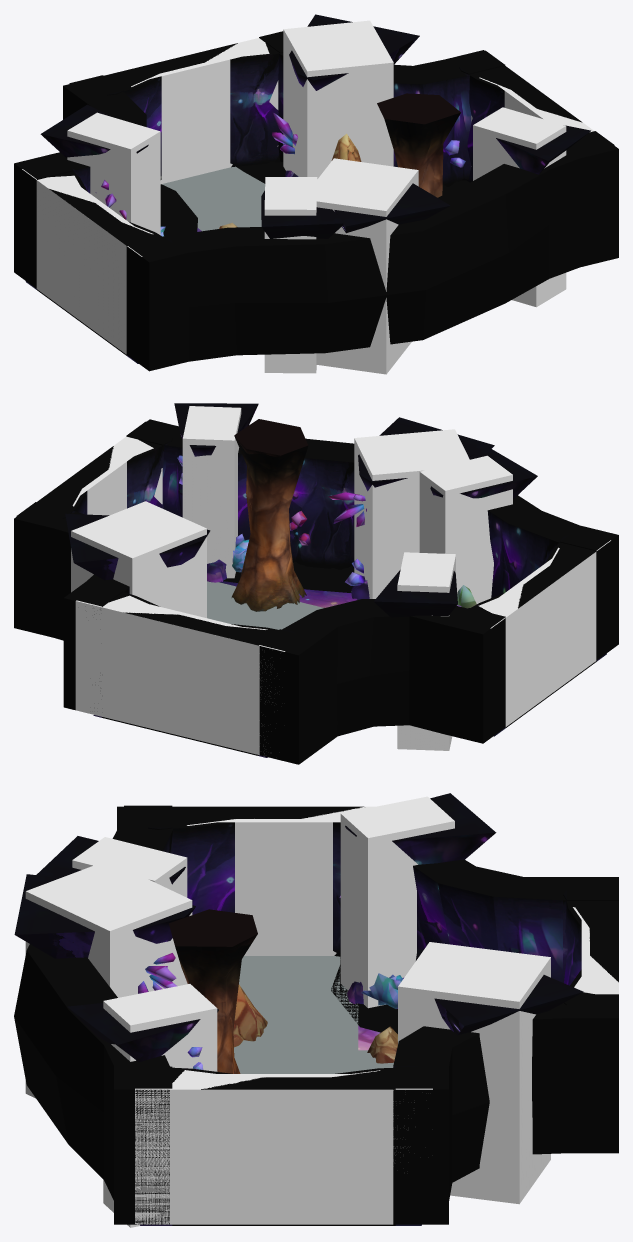
The model's file is Dungeon_101_RoadT_002.fbx.
The picture shows the model from 3 angles, top to bottom: view 1: azimuth 30°, elevation 25°; view 2: azimuth 150°, elevation 25°; view 3: azimuth 270°, elevation 25°; orthographic projection. The views are drawn at different scales.
Parts seen in each view (by area): view 1: Dun_101_RoadT_002_Wall, DoorWay_NavMask (1) (×3), Dun_101_Door_002 (×3), Cube_02, Dun_101_RoadT_002_object_02, Cube_01, Cube_05, Dungeon_011_Object_010 (1), Cube_03, Quad_Nav_SP (2), Cube_04, Dun_101_RoadT_002_shadow (+3 smaller); view 2: Dun_101_RoadT_002_Wall, DoorWay_NavMask (1) (×3), Dun_101_Door_002 (×3), Cube_01, Dungeon_011_Object_010 (1), Cube_02, Dun_101_RoadT_002_object_02, Cube_04, Cube_03, Cube_05, Quad_Nav_SP (1), Dun_101_RoadT_002_object_01 (+3 smaller); view 3: Dun_101_RoadT_002_Wall, DoorWay_NavMask (1) (×3), Dun_101_Door_002 (×3), Cube_02, Dun_101_RoadT_002_object_02, Cube_05, Quad_Nav_SP (1), Cube_01, Dungeon_011_Object_010 (1), Cube_03, Cube_04, Dun_101_RoadT_002_object_01 (+3 smaller).
Part boxes in pixels (x1,y1,x2,y2): Dun_101_RoadT_002_Wall: [14, 50, 618, 371]; DoorWay_NavMask (1) (×3): [22, 38, 594, 354]; Dun_101_Door_002 (×3): [18, 31, 614, 355]; Cube_02: [283, 20, 393, 178]; Dun_101_RoadT_002_object_02: [40, 14, 590, 238]; Cube_01: [303, 158, 418, 374]; Cube_05: [67, 112, 160, 235]; Dungeon_011_Object_010 (1): [377, 93, 460, 197]; Cube_03: [473, 107, 566, 307]; Quad_Nav_SP (2): [162, 166, 265, 231]; Cube_04: [264, 177, 317, 373]; Dun_101_RoadT_002_shadow: [160, 161, 469, 236]; Dun_101_RoadT_002_Wall: [14, 419, 618, 764]; DoorWay_NavMask (1) (×3): [75, 436, 610, 756]; Dun_101_Door_002 (×3): [16, 421, 615, 755]; Cube_01: [354, 429, 472, 598]; Dungeon_011_Object_010 (1): [231, 419, 308, 611]; Cube_02: [71, 501, 206, 617]; Dun_101_RoadT_002_object_02: [65, 403, 537, 617]; Cube_04: [419, 455, 512, 603]; Cube_03: [182, 406, 241, 578]; Cube_05: [397, 552, 455, 750]; Quad_Nav_SP (1): [207, 581, 323, 629]; Dun_101_RoadT_002_object_01: [177, 455, 476, 608]; Dun_101_RoadT_002_Wall: [14, 806, 618, 1224]; DoorWay_NavMask (1) (×3): [135, 806, 618, 1224]; Dun_101_Door_002 (×3): [124, 805, 618, 1225]; Cube_02: [398, 942, 550, 1204]; Dun_101_RoadT_002_object_02: [14, 793, 583, 1062]; Cube_05: [340, 796, 454, 1008]; Quad_Nav_SP (1): [234, 956, 358, 1073]; Cube_01: [25, 860, 192, 1098]; Dungeon_011_Object_010 (1): [169, 909, 257, 1073]; Cube_03: [103, 984, 217, 1227]; Cube_04: [72, 837, 187, 897]; Dun_101_RoadT_002_object_01: [138, 896, 402, 1069].
Size of what is drawn, in the model's own units: 9 by 3.4 by 8.13.
